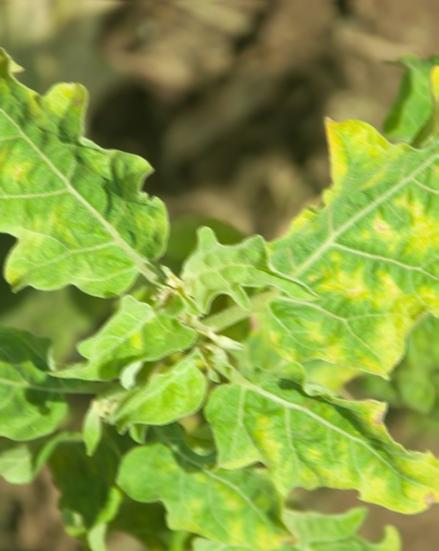Tomato leaf mosaic virus: (244, 64, 439, 374), (4, 60, 162, 319), (193, 362, 439, 518), (59, 287, 189, 392), (174, 234, 320, 314)
